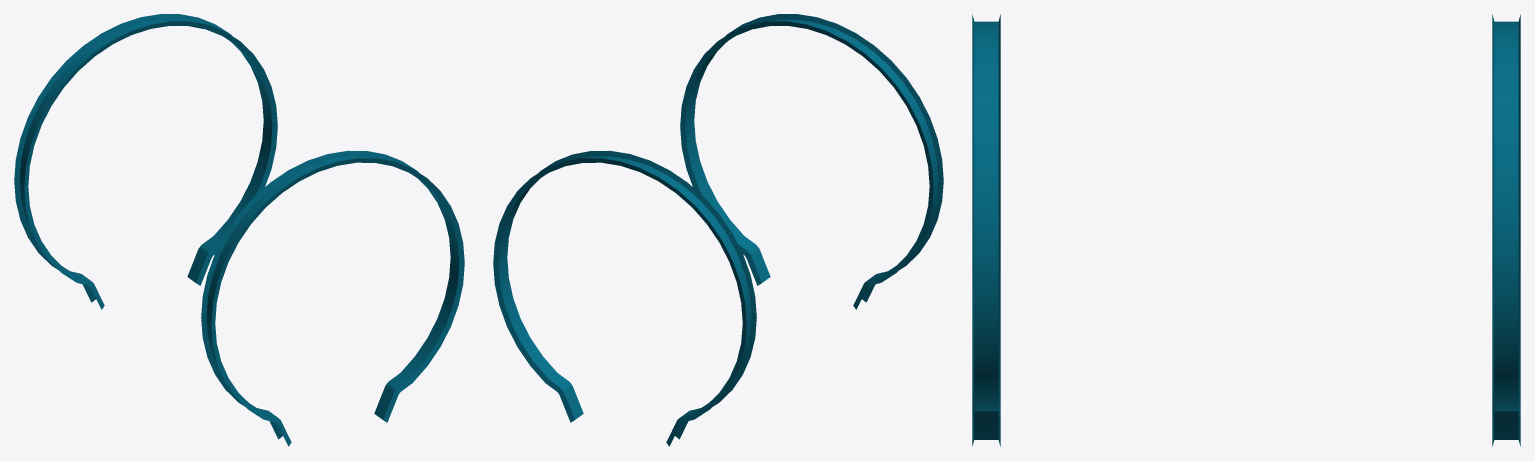
Rendered from neon_01.fbx.
The picture shows the model from 3 angles, left to right: view 1: azimuth 30°, elevation 25°; view 2: azimuth 150°, elevation 25°; view 3: azimuth 270°, elevation 25°; orthographic projection. The views are drawn at different scales.
Parts seen in each view (by area): view 1: neon_01; view 2: neon_01; view 3: neon_01.
Part boxes in pixels (left/top/right/bottom): neon_01: left=14, top=14, right=464, bottom=446; neon_01: left=493, top=14, right=943, bottom=446; neon_01: left=972, top=14, right=1520, bottom=446.
Size of the model in its own units: 1000 by 1031 by 1346.
